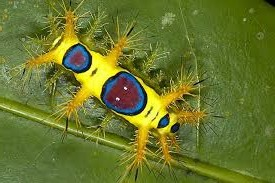Pest! (nettle_caterpillar): (22, 5, 188, 141)
